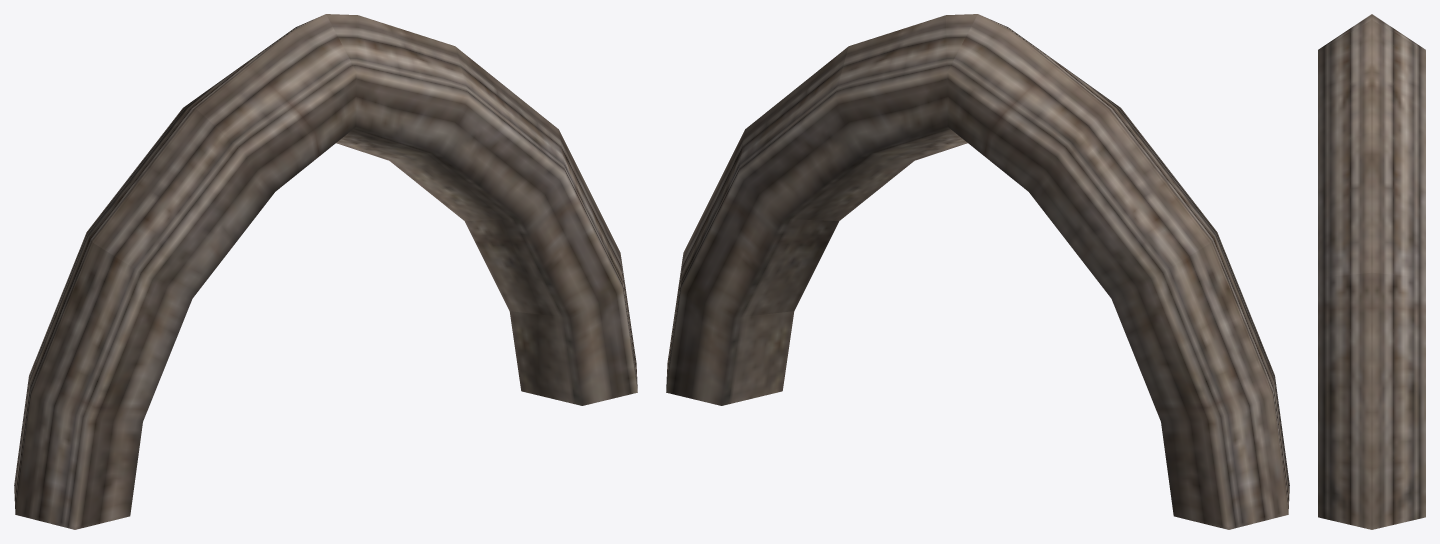
The model's file is SM_zhucheng_ArchArch.FBX.
3 renders of one model, left to right at view 1: azimuth 30°, elevation 25°; view 2: azimuth 150°, elevation 25°; view 3: azimuth 270°, elevation 25°, orthographic. The views are drawn at different scales.
Visible parts, largest first — view 1: SM_zhucheng_ArchArch; view 2: SM_zhucheng_ArchArch; view 3: SM_zhucheng_ArchArch.
Boxes of the visible parts, x1,y1,x2,y2 form: SM_zhucheng_ArchArch: (14, 14, 637, 529); SM_zhucheng_ArchArch: (666, 14, 1289, 529); SM_zhucheng_ArchArch: (1318, 14, 1425, 529).
Size of the model in its own units: 101 by 65.75 by 17.09.
